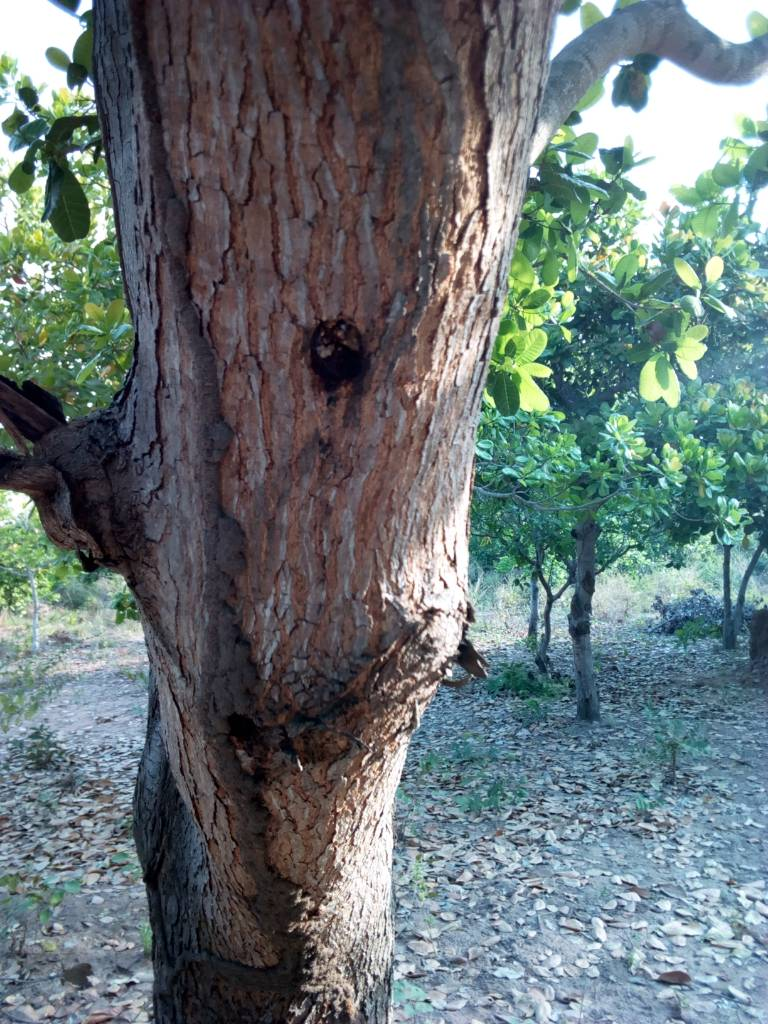Apate terebrans: (284, 306, 401, 409)
